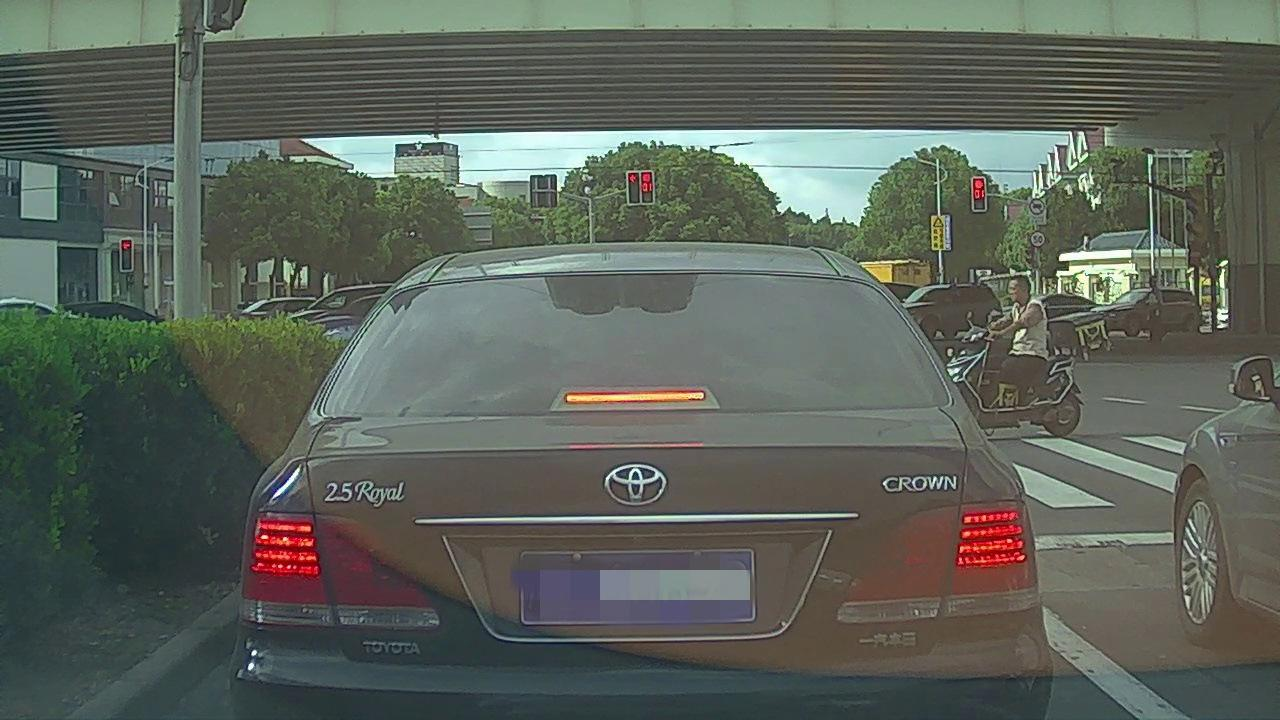traffic_light: (641, 171, 654, 204), (973, 178, 985, 211), (626, 173, 638, 203), (121, 238, 131, 270)
